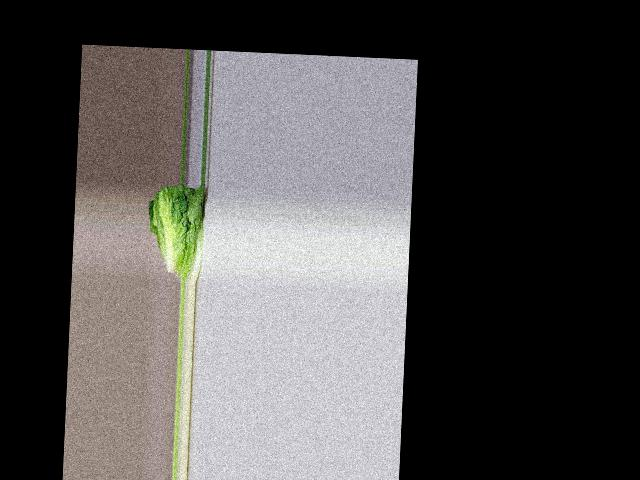lettuce: (152, 183, 208, 279)
